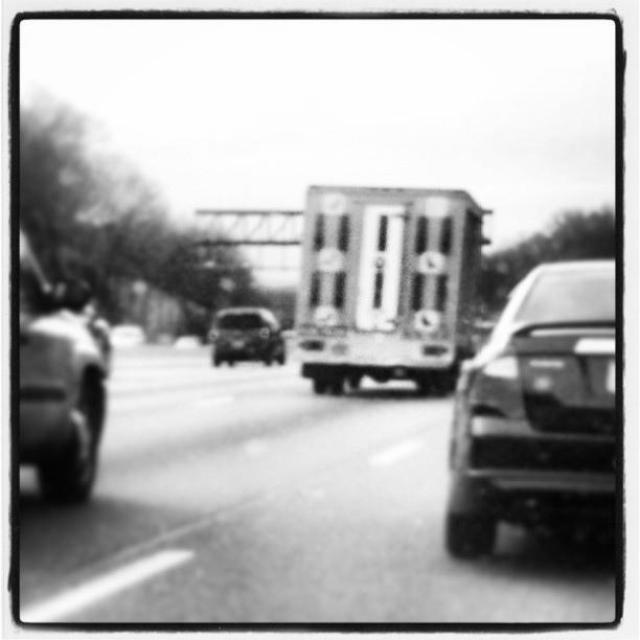vehicle: (445, 256, 623, 563), (294, 184, 493, 396), (18, 227, 114, 505), (205, 306, 287, 369)
